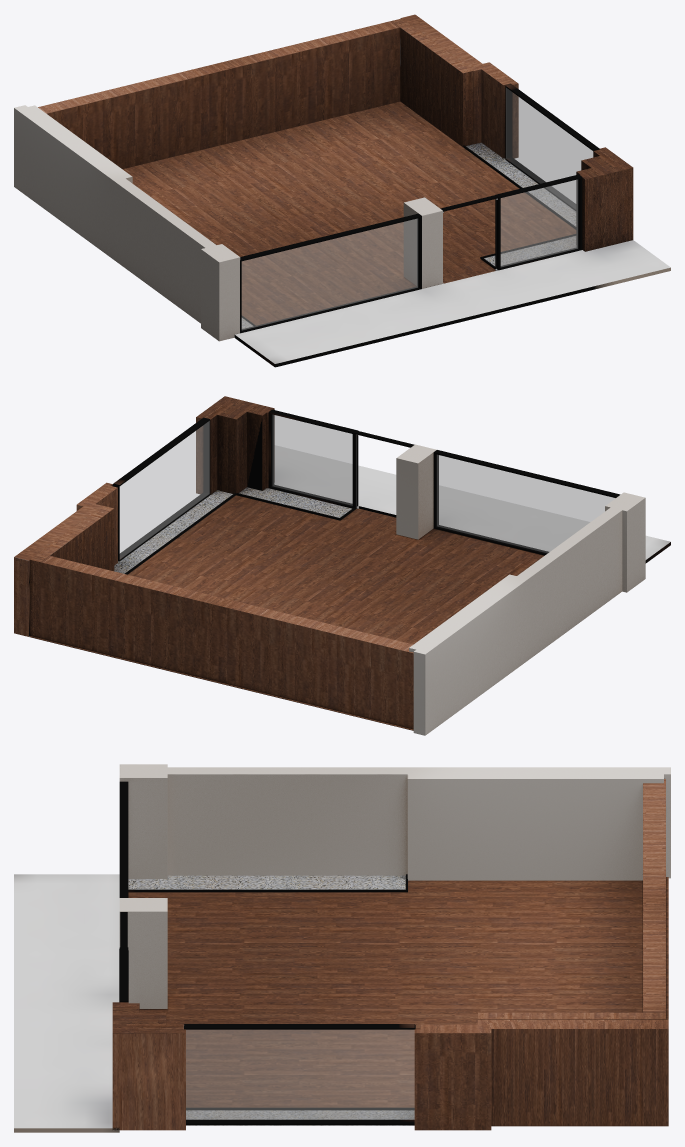
File: store-kolon.glb
3 renders of one model, top to bottom at view 1: azimuth 30°, elevation 25°; view 2: azimuth 150°, elevation 25°; view 3: azimuth 270°, elevation 25°, orthographic. The views are drawn at different scales.
Visible parts, largest first — view 1: Store_Kolon매장_17.4x16.6x3.001; view 2: Store_Kolon매장_17.4x16.6x3.001; view 3: Store_Kolon매장_17.4x16.6x3.001.
Part boxes in pixels (<box>): Store_Kolon매장_17.4x16.6x3.001: <box>14,14,670,367</box>; Store_Kolon매장_17.4x16.6x3.001: <box>14,396,670,735</box>; Store_Kolon매장_17.4x16.6x3.001: <box>14,764,670,1132</box>.
Bounding box in the file's own units: 16.58 × 3.06 × 17.44.
Materials: 2 (1 with a texture image).
